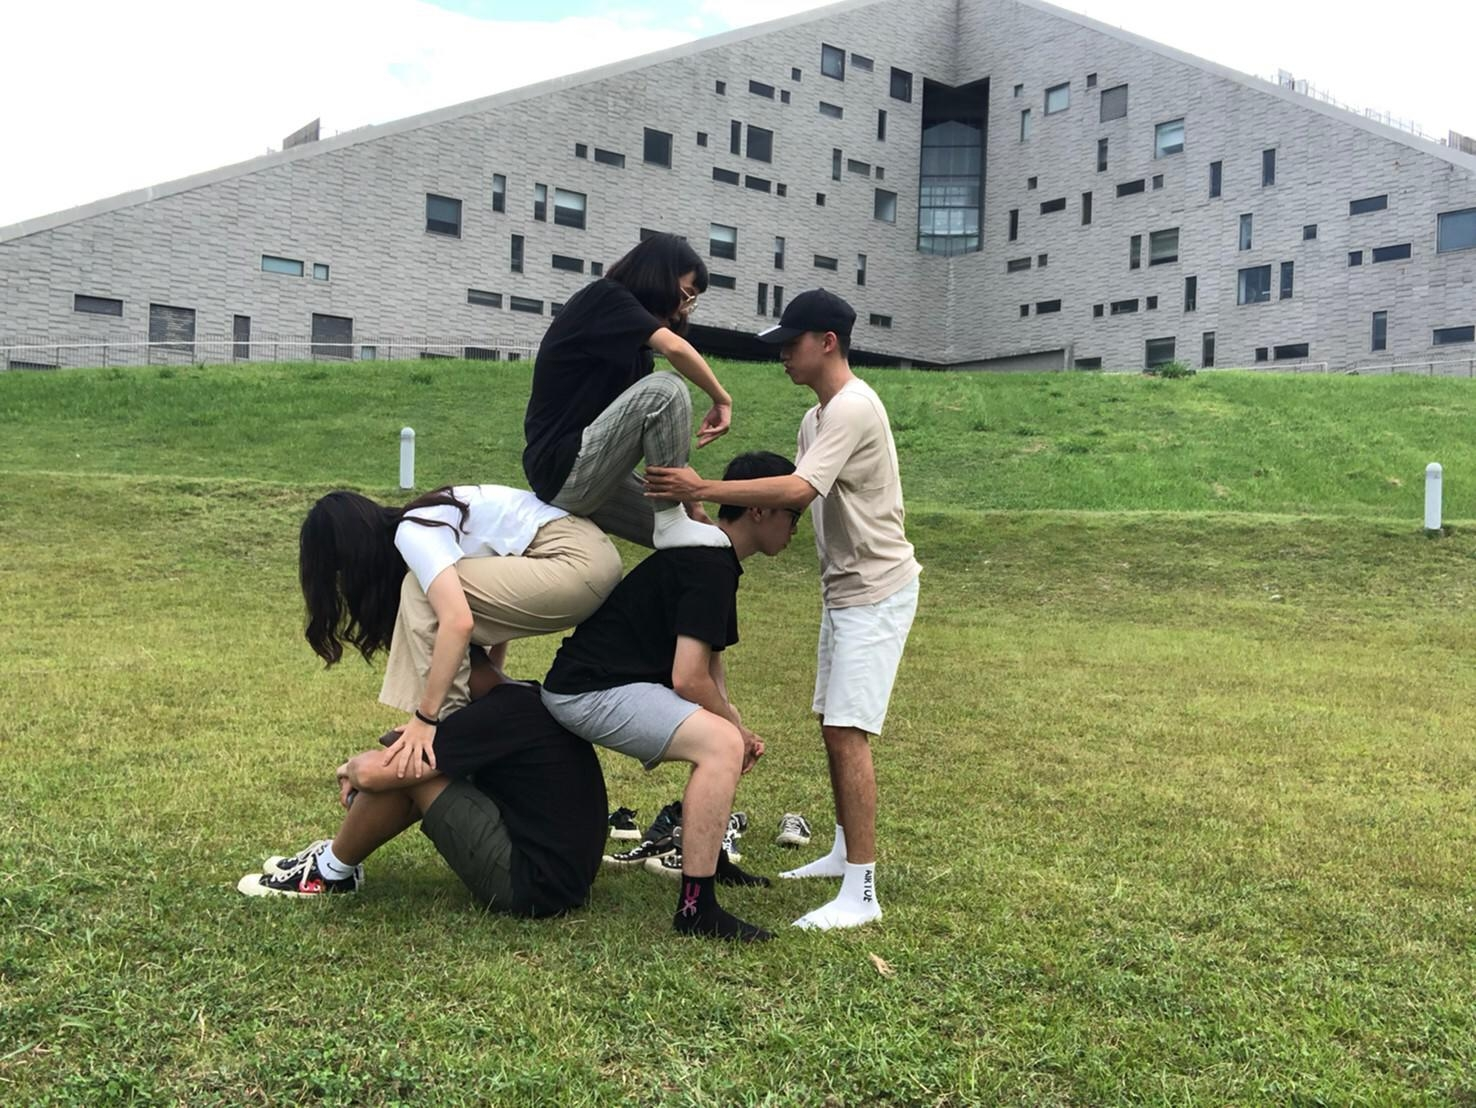people: (585, 467, 789, 940), (312, 648, 607, 925), (772, 298, 895, 927), (307, 492, 582, 650), (557, 250, 701, 484)
